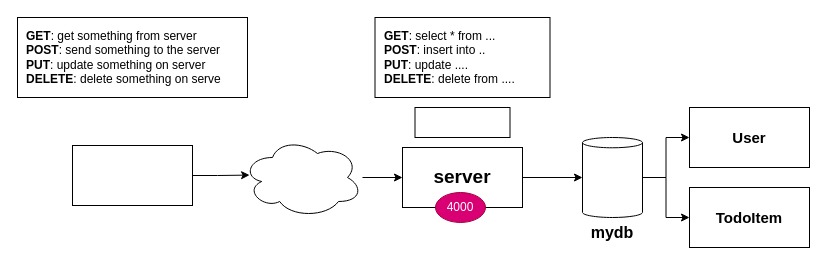
This 827x265 diagram has some shape labels left out. The shapes that lost their labels are listed below. From the top down, each one's centre as x and y in pixels, then its label:
At point 462,122: "GET /".
At point 132,175: "client".
